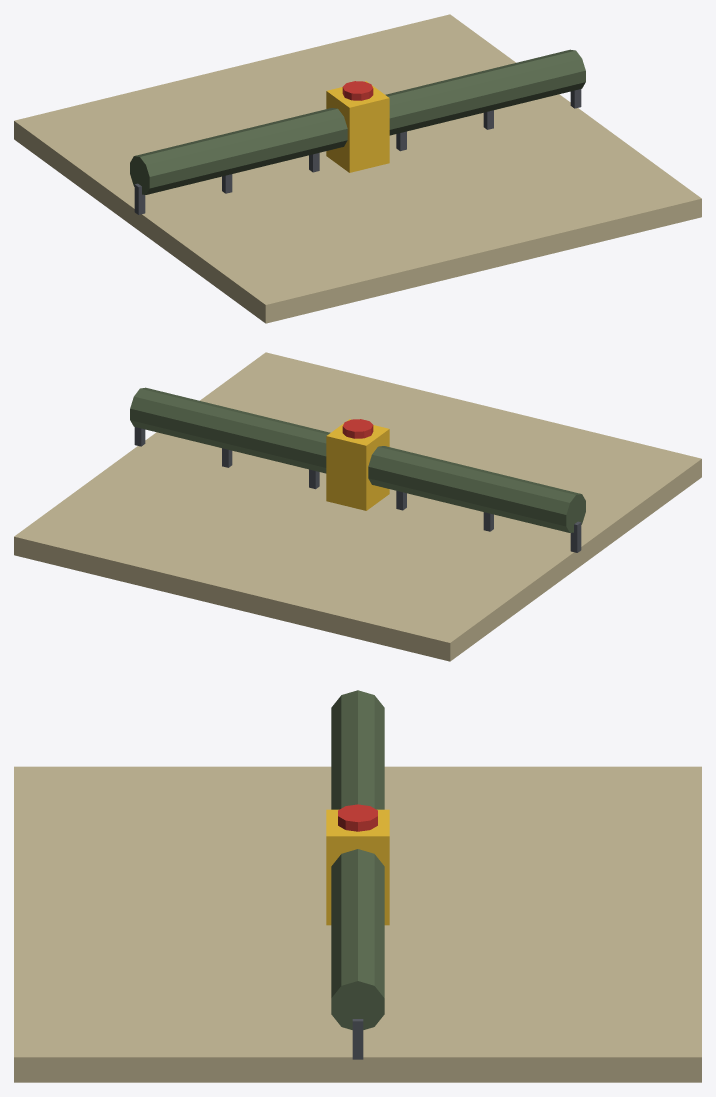
File: oil_special_1.glb
3 views of the same model, one above another, from view 1: azimuth 30°, elevation 25°; view 2: azimuth 150°, elevation 25°; view 3: azimuth 270°, elevation 25° (orthographic). The views are drawn at different scales.
Parts seen in each view (by area): view 1: oil_special_1; view 2: oil_special_1; view 3: oil_special_1.
Boxes of the visible parts, x1,y1,x2,y2 form: oil_special_1: (14, 14, 701, 323); oil_special_1: (14, 352, 701, 661); oil_special_1: (14, 690, 701, 1082).
Size of the model in its own units: 1.99 by 0.39 by 1.96.
